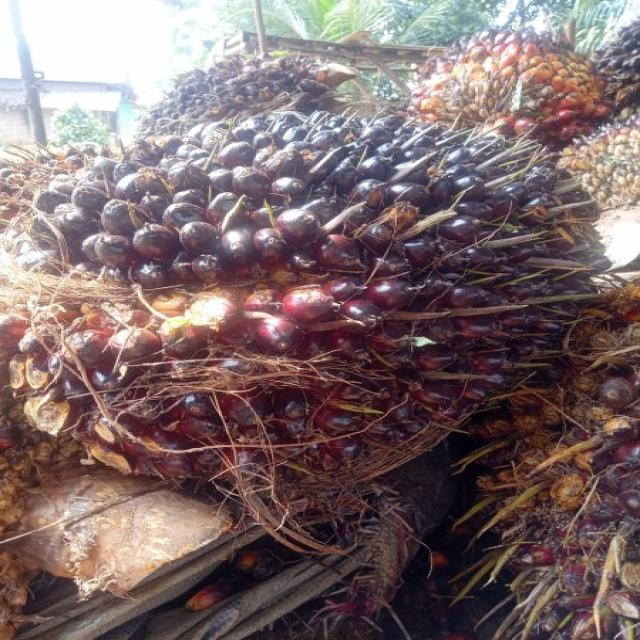fraksi 00: (35, 97, 592, 488)
